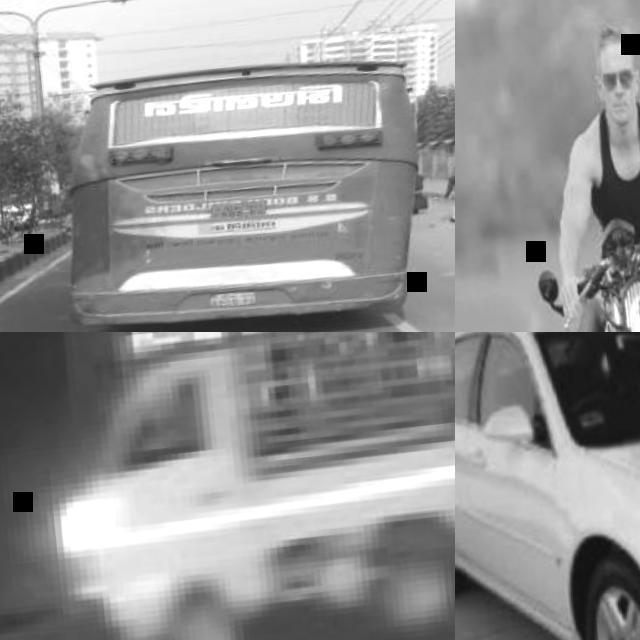car: (23, 0, 435, 339)
